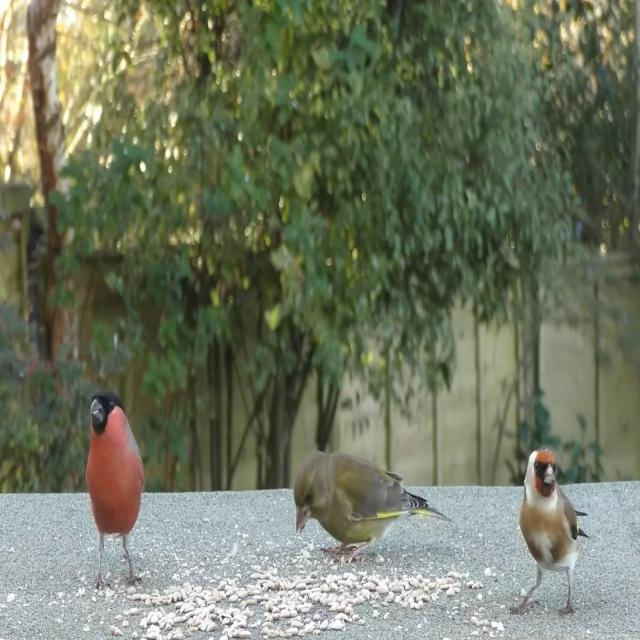beak: (291, 498, 309, 539), (89, 397, 106, 424), (544, 460, 556, 492)
bird: (291, 455, 451, 570), (511, 446, 593, 619), (85, 389, 145, 590)
